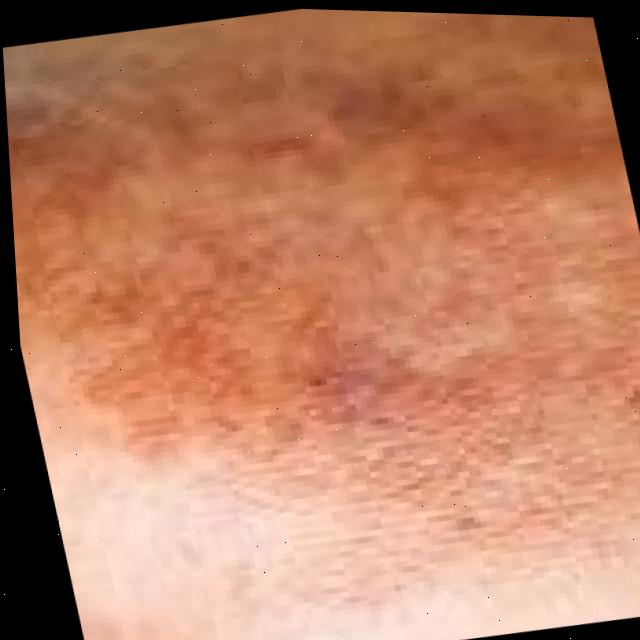Melasma: (1, 24, 579, 570)
